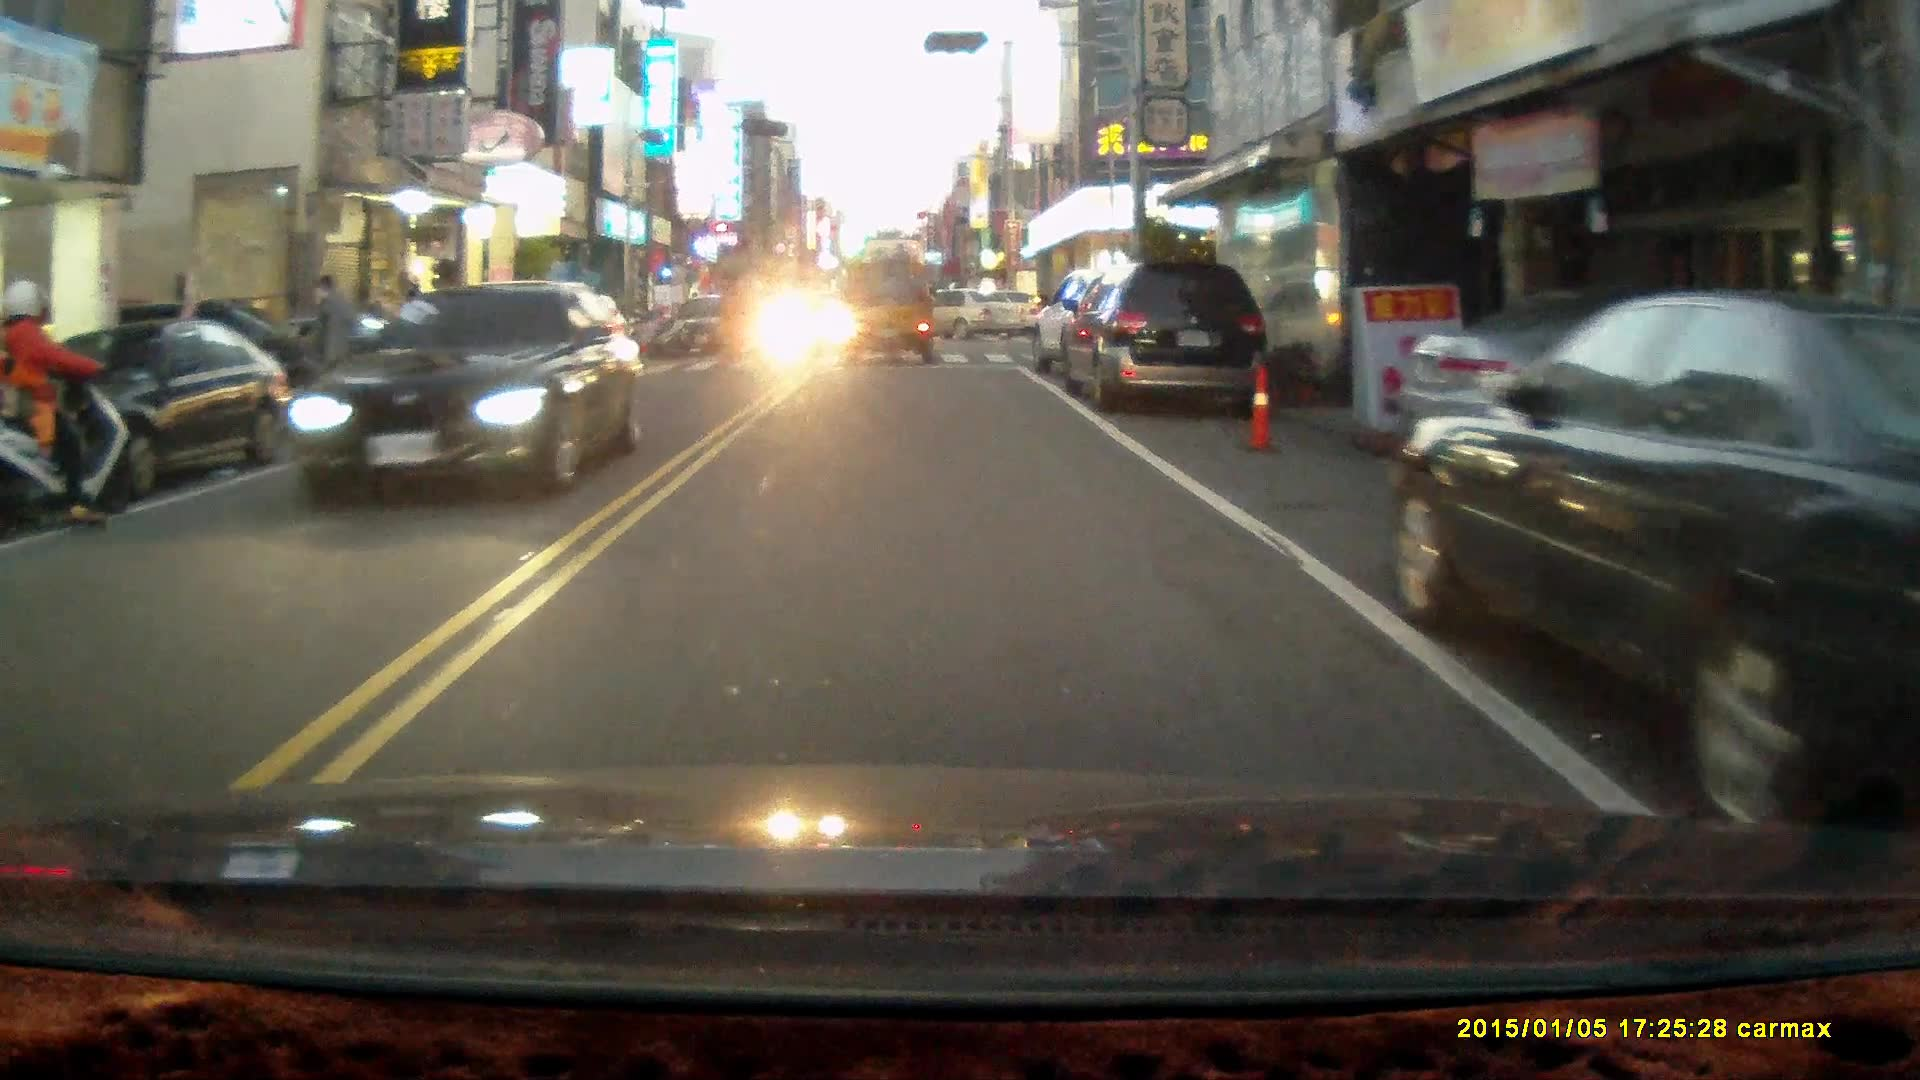pedestrian: (305, 268, 357, 419)
rider: (0, 272, 143, 535)
vehicle: (1394, 293, 1920, 819), (1391, 290, 1827, 491), (287, 278, 643, 512), (1056, 255, 1271, 415), (1030, 265, 1208, 388), (842, 257, 937, 364), (881, 285, 1023, 343), (668, 299, 751, 358)
